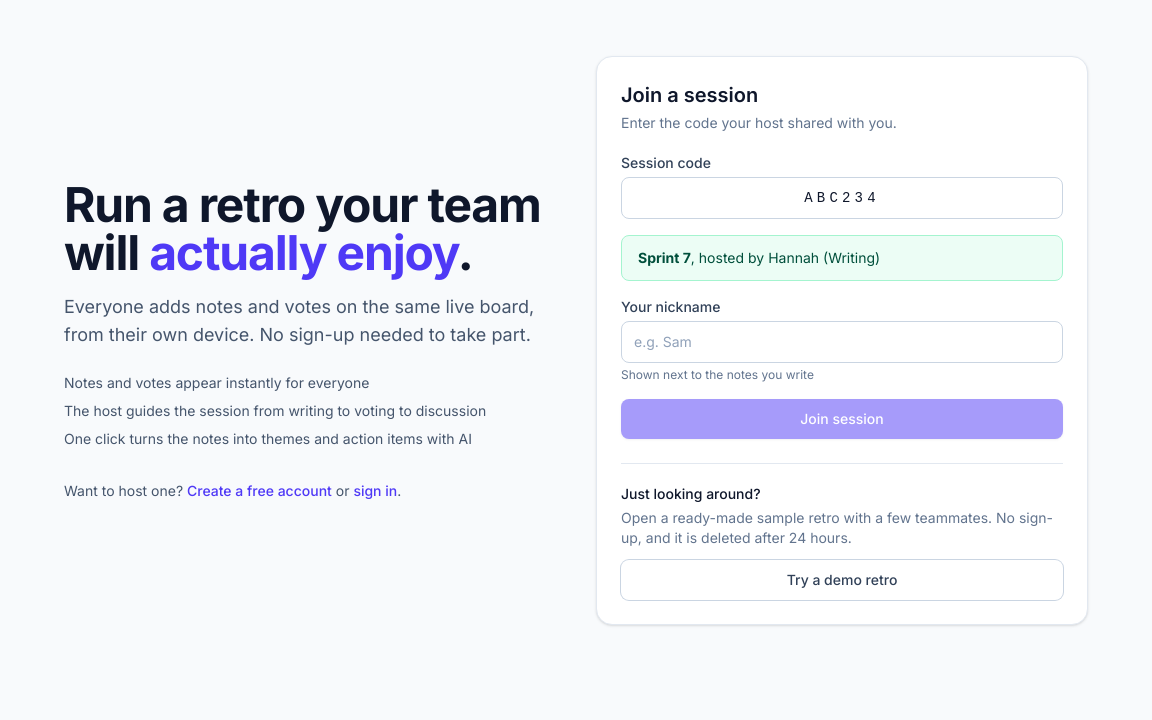
JoinPage › shows the server's reason when the nickname is taken, and stays on the page
Type "Sam" into the field with test id "nickname" at x=842, y=342, box [621, 321, 1063, 363]
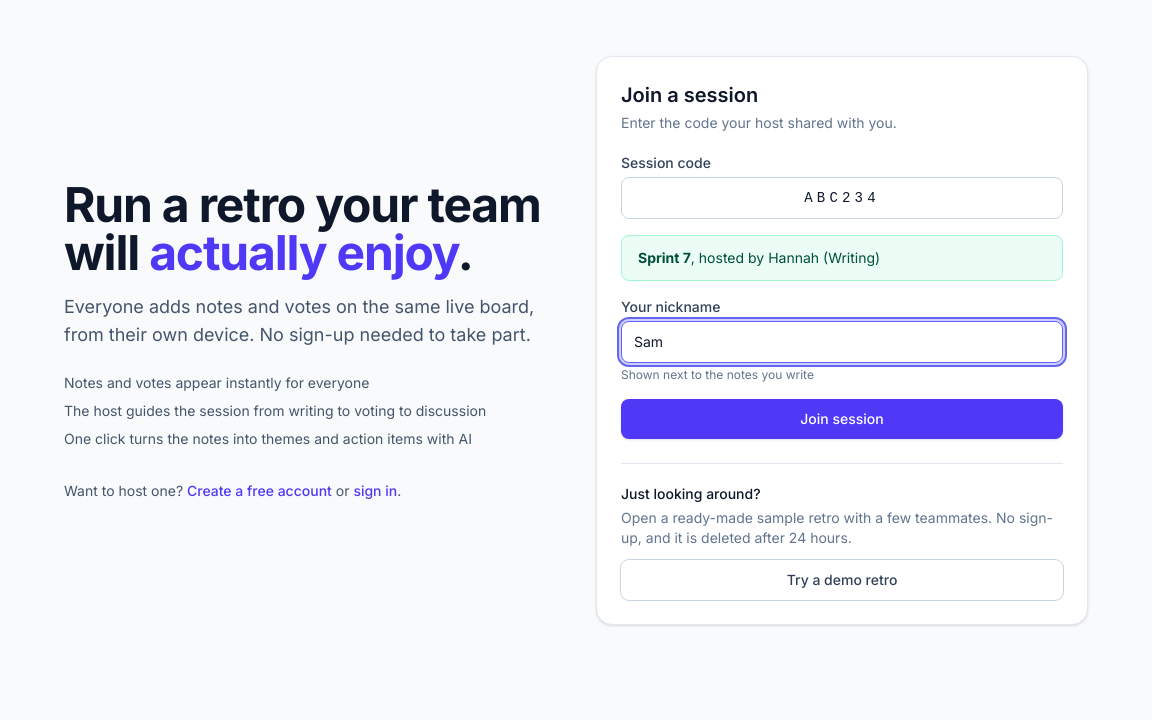
Click the button with test id "join-submit" at x=842, y=419, box [621, 399, 1063, 439]
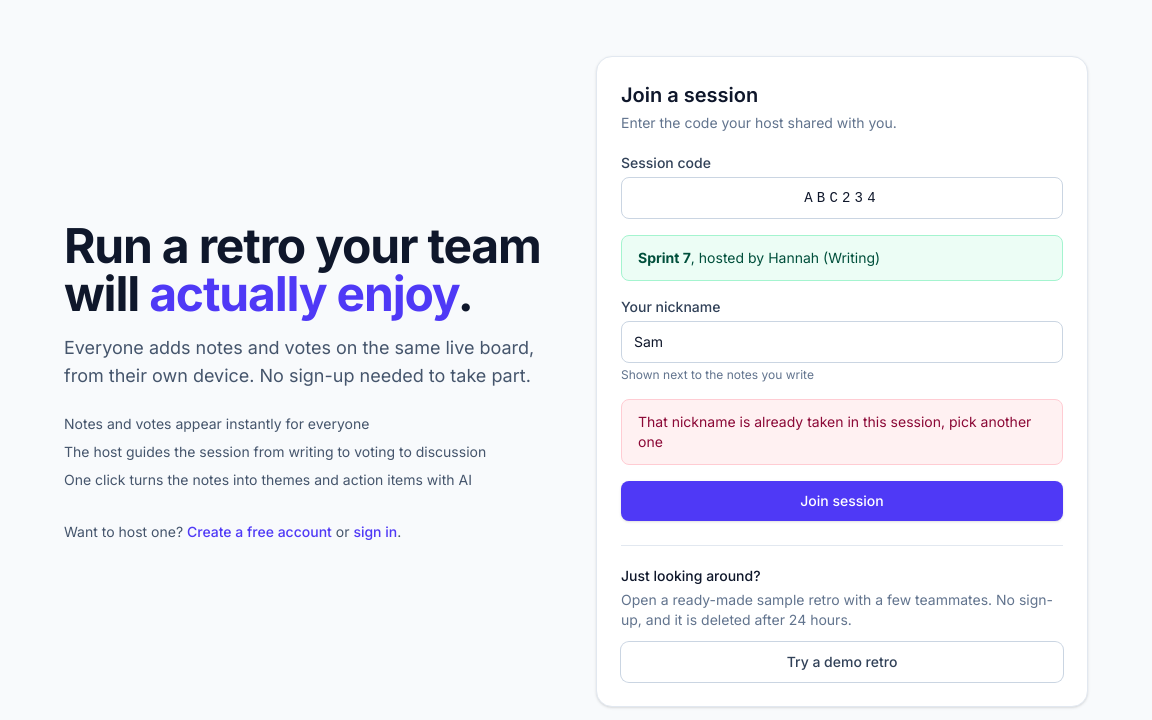
Check: the message "That nickname is already taken in this session, pick another one" is shown, box [621, 399, 1063, 465]
